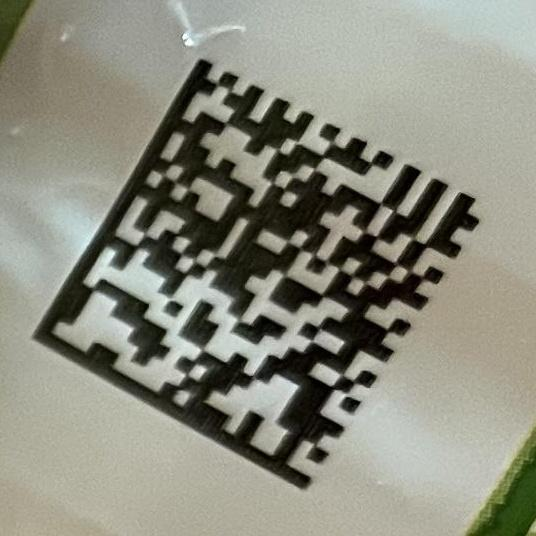datamatrix: (33, 60, 484, 492)
